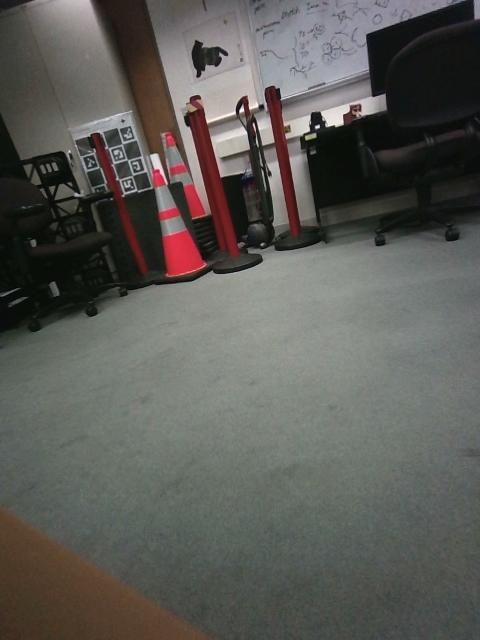block: (364, 261, 414, 292)
